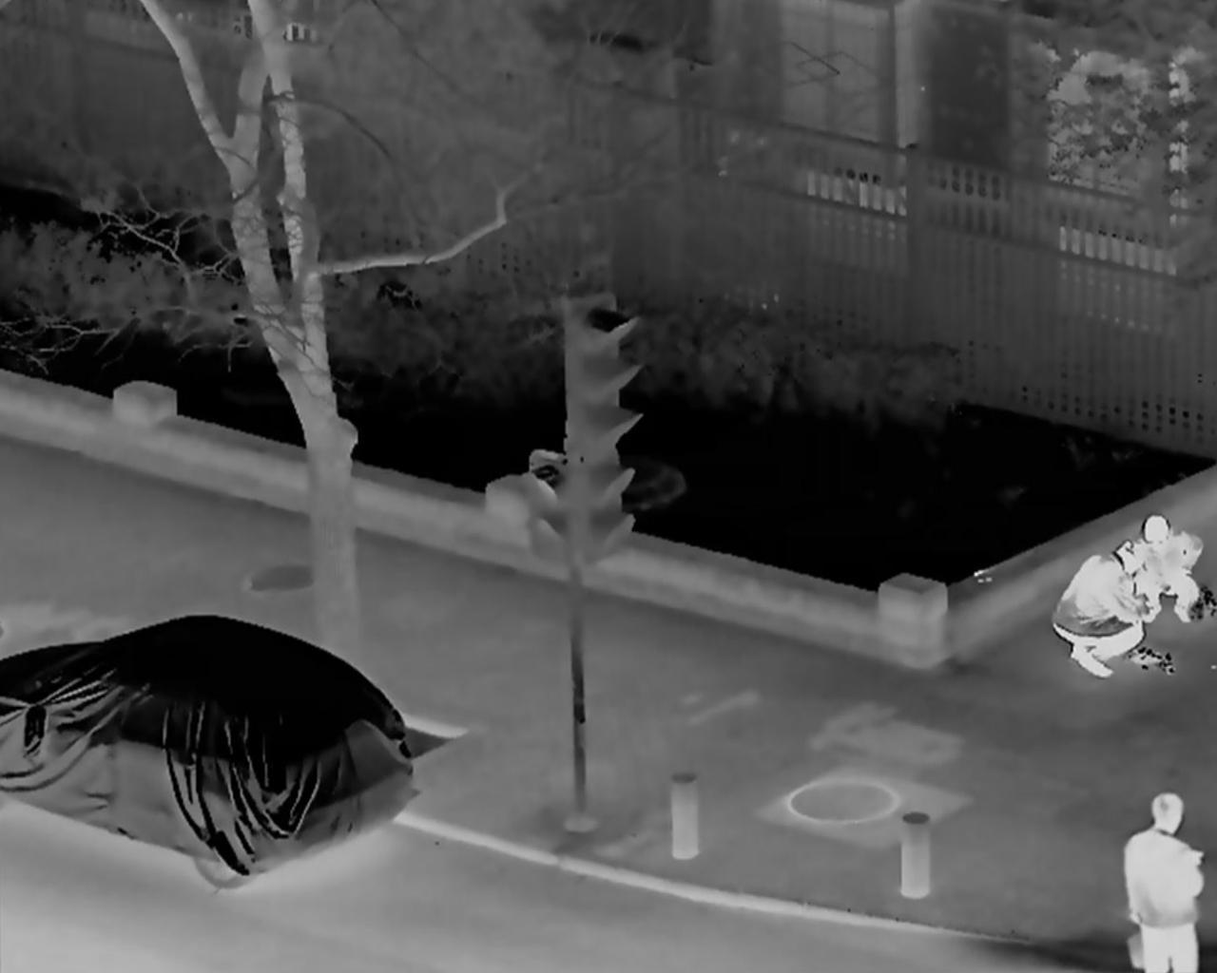person: (1123, 791, 1207, 973), (1052, 542, 1147, 678), (1136, 516, 1202, 626)
